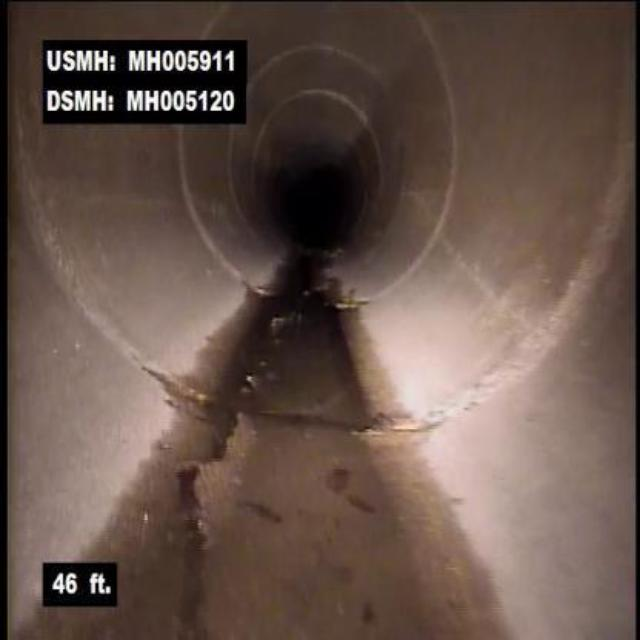Buckling: (172, 402, 249, 617), (235, 308, 309, 405)
